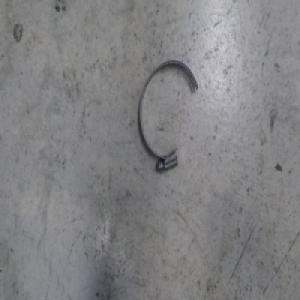AdjustableClamp: (137, 59, 200, 175)
